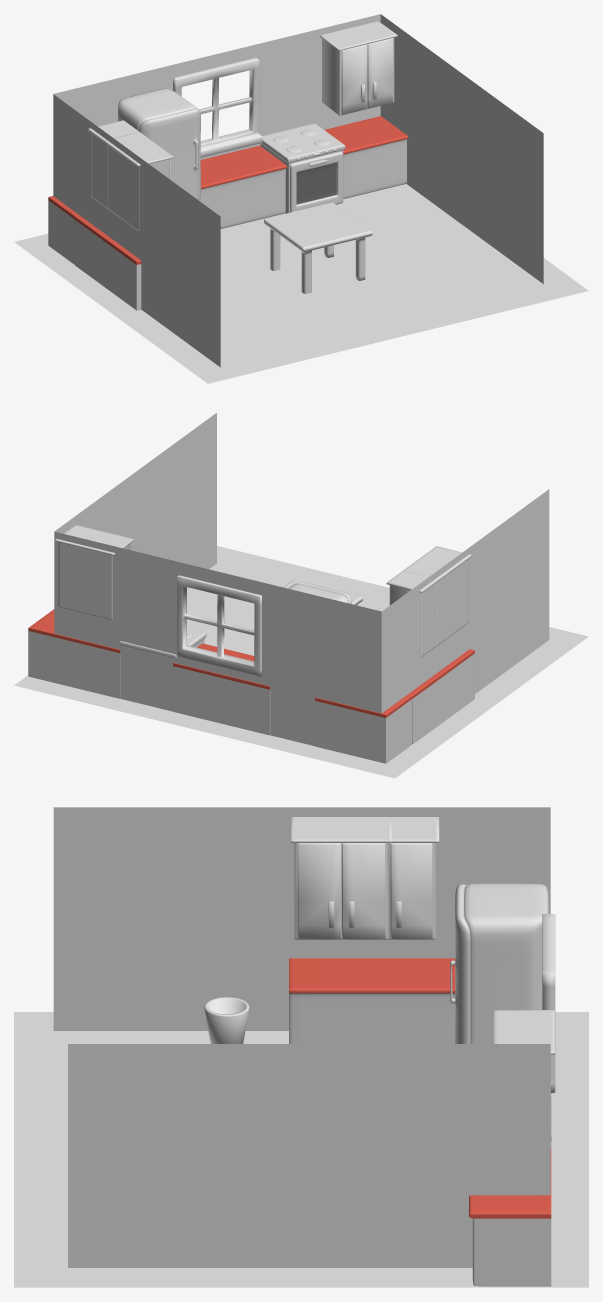
The model's file is kitchen.fbx.
The picture shows the model from 3 angles, top to bottom: view 1: azimuth 30°, elevation 25°; view 2: azimuth 150°, elevation 25°; view 3: azimuth 270°, elevation 25°; orthographic projection. The views are drawn at different scales.
Parts seen in each view (by area): view 1: Plane, Floor, Shelves.001, Counter.003, Fridge, Oven, Table, Counter.004, Counter.001, Shelves.003, Window Sill, Shelves.002 (+1 smaller); view 2: Plane, Floor, Counter.003, Counter.002, Counter.004, Shelves.001, Window Sill, Counter.001, Shelves.003, Shelves.002, Fridge, Oven; view 3: Plane, Floor, Counter.001, Fridge, Shelves.003, Counter.004, Shelves.002, Shelves.001, Can, Window Sill.
Part boxes in pixels (bbox=[...]): Plane: bbox=[53, 14, 543, 367]; Floor: bbox=[14, 184, 588, 383]; Shelves.001: bbox=[319, 21, 397, 115]; Counter.003: bbox=[200, 145, 286, 228]; Fridge: bbox=[118, 88, 200, 201]; Oven: bbox=[260, 123, 345, 213]; Table: bbox=[264, 202, 372, 293]; Counter.004: bbox=[324, 116, 408, 198]; Counter.001: bbox=[74, 216, 141, 310]; Shelves.003: bbox=[104, 132, 173, 231]; Window Sill: bbox=[173, 58, 262, 157]; Shelves.002: bbox=[88, 120, 140, 208]; Plane: bbox=[54, 413, 549, 746]; Floor: bbox=[14, 546, 588, 778]; Counter.003: bbox=[173, 643, 270, 735]; Counter.002: bbox=[315, 694, 412, 763]; Counter.004: bbox=[28, 609, 120, 698]; Shelves.001: bbox=[55, 525, 134, 620]; Window Sill: bbox=[177, 575, 261, 676]; Counter.001: bbox=[409, 649, 474, 744]; Shelves.003: bbox=[404, 546, 471, 645]; Shelves.002: bbox=[386, 570, 439, 657]; Fridge: bbox=[288, 582, 351, 603]; Oven: bbox=[119, 628, 206, 658]; Plane: bbox=[53, 807, 550, 1267]; Floor: bbox=[14, 1012, 588, 1287]; Counter.001: bbox=[289, 958, 455, 1043]; Fridge: bbox=[450, 883, 548, 1043]; Shelves.003: bbox=[291, 817, 391, 939]; Counter.004: bbox=[469, 1148, 551, 1286]; Shelves.002: bbox=[388, 817, 439, 939]; Shelves.001: bbox=[494, 1010, 554, 1150]; Can: bbox=[204, 997, 249, 1043]; Window Sill: bbox=[542, 914, 555, 1092].
Bounding box in the file's own units: 1392 × 544 × 1227.
